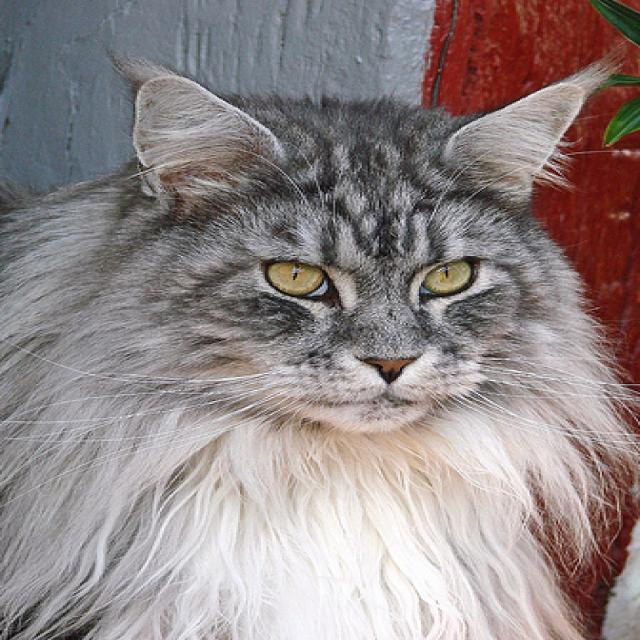Maine Coon: (0, 61, 640, 640)
